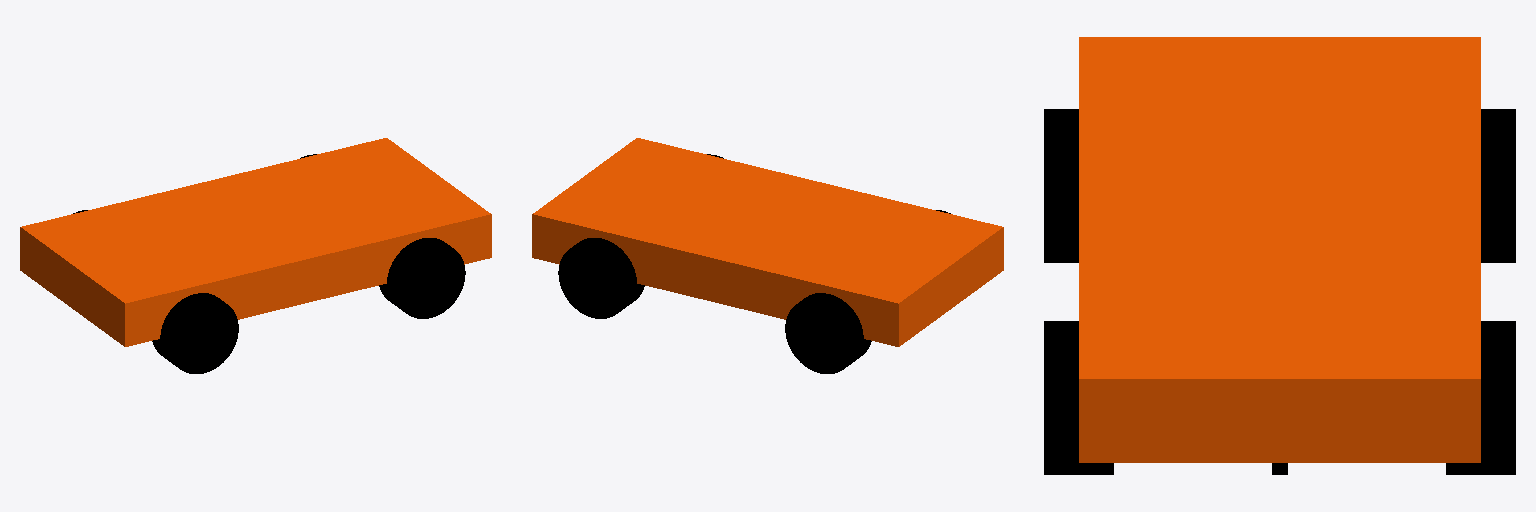
robot.urdf — carlikebot_robot:
<?xml version="1.0" ?>
<!-- =================================================================================== -->
<!-- |    This document was autogenerated by xacro from [local-path]/workspace_world/ws_1/src/ros2_control_demos/example_11/description/urdf/carlikebot.urdf.xacro | -->
<!-- |    EDITING THIS FILE BY HAND IS NOT RECOMMENDED                                 | -->
<!-- =================================================================================== -->
<!-- 4 Wheel Robot with front steering and rear drive -->
<robot name="carlikebot_robot">
  <material name="black">
    <color rgba="0.0 0.0 0.0 1.0"/>
  </material>
  <material name="blue">
    <color rgba="0.0 0.0 0.8 1.0"/>
  </material>
  <material name="green">
    <color rgba="0.0 0.8 0.0 1.0"/>
  </material>
  <material name="grey">
    <color rgba="0.2 0.2 0.2 1.0"/>
  </material>
  <material name="orange">
    <color rgba="1.0 0.4235294117647059 0.0392156862745098 1.0"/>
  </material>
  <material name="brown">
    <color rgba="0.8705882352941177 0.8117647058823529 0.7647058823529411 1.0"/>
  </material>
  <material name="red">
    <color rgba="0.8 0.0 0.0 1.0"/>
  </material>
  <material name="white">
    <color rgba="1.0 1.0 1.0 1.0"/>
  </material>
  <material name="invisible">
    <color rgba="0.0 0.0 0.0 0.0"/>
  </material>
  <!-- <xacro:property name="wheeltrack" value="" -->
  <!-- Base Link -->
  <link name="base_link"/>
  <!-- Chassis -->
  <link name="chassis_link">
    <collision>
      <origin rpy="0 0 0" xyz="0 0 0"/>
      <geometry>
        <box size="0.525 0.26 0.06"/>
      </geometry>
    </collision>
    <visual>
      <origin rpy="0 0 0" xyz="0 0 0"/>
      <geometry>
        <box size="0.525 0.26 0.06"/>
      </geometry>
      <material name="orange"/>
    </visual>
    <inertial>
      <origin rpy="0 0 0" xyz="0 0 0"/>
      <mass value="4.0"/>
      <inertia ixx="0.000270" ixy="0.0" ixz="0.0" iyy="0.000270" iyz="0.0" izz="0.000426"/>
    </inertial>
  </link>
  <joint name="chassis_joint" type="fixed">
    <parent link="base_link"/>
    <child link="chassis_link"/>
    <origin rpy="0 0 0" xyz="0 0 0.08"/>
    <axis xyz="0 0 1"/>
    <dynamics damping="0.2"/>
  </joint>
  <!-- rear wheels -->
  <!-- virtual rear wheel -->
  <link name="virtual_rear_wheel">
    <visual>
      <origin rpy="1.5707963267948966 0 1.5707963267948966" xyz="0 0 0"/>
      <geometry>
        <cylinder length="0.01" radius="0.05"/>
      </geometry>
      <material name="invisible"/>
    </visual>
  </link>
  <joint name="virtual_rear_wheel_joint" type="continuous">
    <parent link="chassis_link"/>
    <child link="virtual_rear_wheel"/>
    <origin rpy="0 0 1.5707963267948966" xyz="-0.1625 0 -0.03"/>
    <axis xyz="1 0 0"/>
    <limit effort="100.0" velocity="100.0"/>
    <dynamics damping="0.2"/>
  </joint>
  <!-- rear right wheel -->
  <link name="rear_right_wheel">
    <collision>
      <origin rpy="1.5707963267948966 0 1.5707963267948966" xyz="0 0 0"/>
      <geometry>
        <cylinder length="0.045" radius="0.05"/>
      </geometry>
    </collision>
    <visual>
      <origin rpy="1.5707963267948966 0 1.5707963267948966" xyz="0 0 0"/>
      <geometry>
        <cylinder length="0.045" radius="0.05"/>
      </geometry>
      <material name="black"/>
    </visual>
    <inertial>
      <origin rpy="1.5707963267948966 0 1.5707963267948966" xyz="0 0 0"/>
      <mass value="0.34055"/>
      <inertia ixx="0.000270" ixy="0.0" ixz="0.0" iyy="0.000270" iyz="0.0" izz="0.000426"/>
    </inertial>
  </link>
  <joint name="rear_right_wheel_joint" type="continuous">
    <parent link="chassis_link"/>
    <child link="rear_right_wheel"/>
    <origin rpy="0 0 1.5707963267948966" xyz="-0.1625 0.13 -0.03"/>
    <axis xyz="1 0 0"/>
    <limit effort="100.0" velocity="100.0"/>
    <dynamics damping="0.2"/>
    <mimic joint="virtual_rear_wheel_joint" multiplier="1.0" offset="0.0"/>
  </joint>
  <!-- rear left wheel -->
  <link name="rear_left_wheel">
    <collision>
      <origin rpy="1.5707963267948966 0 1.5707963267948966" xyz="0 0 0"/>
      <geometry>
        <cylinder length="0.045" radius="0.05"/>
      </geometry>
    </collision>
    <visual>
      <origin rpy="1.5707963267948966 0 1.5707963267948966" xyz="0 0 0"/>
      <geometry>
        <cylinder length="0.045" radius="0.05"/>
      </geometry>
      <material name="black"/>
    </visual>
    <inertial>
      <origin rpy="1.5707963267948966 0 1.5707963267948966" xyz="0 0 0"/>
      <mass value="0.34055"/>
      <inertia ixx="0.000270" ixy="0.0" ixz="0.0" iyy="0.000270" iyz="0.0" izz="0.000426"/>
    </inertial>
  </link>
  <joint name="rear_left_wheel_joint" type="continuous">
    <parent link="chassis_link"/>
    <child link="rear_left_wheel"/>
    <origin rpy="0 0 1.5707963267948966" xyz="-0.1625 -0.13 -0.03"/>
    <axis xyz="1 0 0"/>
    <limit effort="100.0" velocity="100.0"/>
    <dynamics damping="0.2"/>
    <mimic joint="virtual_rear_wheel_joint" multiplier="1.0" offset="0.0"/>
  </joint>
  <!-- front wheels -->
  <!-- virtual front wheel -->
  <link name="virtual_front_wheel">
    <visual>
      <origin rpy="1.5707963267948966 0 1.5707963267948966" xyz="0 0 0"/>
      <geometry>
        <cylinder length="0.01" radius="0.05"/>
      </geometry>
      <material name="invisible"/>
    </visual>
  </link>
  <joint name="virtual_front_wheel_joint" type="revolute">
    <parent link="chassis_link"/>
    <child link="virtual_front_wheel"/>
    <origin rpy="0 0 1.5707963267948966" xyz="0.1625 0 -0.03"/>
    <axis xyz="0 0 1"/>
    <limit effort="100.0" lower="-0.4" upper="0.4" velocity="0.0"/>
    <dynamics damping="0.2"/>
  </joint>
  <!-- front right wheel -->
  <link name="front_right_wheel">
    <collision>
      <origin rpy="1.5707963267948966 0 1.5707963267948966" xyz="0 0 0"/>
      <geometry>
        <cylinder length="0.045" radius="0.05"/>
      </geometry>
    </collision>
    <visual>
      <origin rpy="1.5707963267948966 0 1.5707963267948966" xyz="0 0 0"/>
      <geometry>
        <cylinder length="0.045" radius="0.05"/>
      </geometry>
      <material name="black"/>
    </visual>
    <inertial>
      <origin rpy="1.5707963267948966 0 1.5707963267948966" xyz="0 0 0"/>
      <mass value="0.34055"/>
      <inertia ixx="0.000270" ixy="0.0" ixz="0.0" iyy="0.000270" iyz="0.0" izz="0.000426"/>
    </inertial>
  </link>
  <joint name="front_right_wheel_joint" type="revolute">
    <parent link="chassis_link"/>
    <child link="front_right_wheel"/>
    <origin rpy="0 0 1.5707963267948966" xyz="0.1625 0.13 -0.03"/>
    <axis xyz="0 0 1"/>
    <limit effort="100.0" lower="-0.4" upper="0.4" velocity="0.0"/>
    <dynamics damping="0.2"/>
    <mimic joint="virtual_front_wheel_joint" multiplier="1.0" offset="0.0"/>
  </joint>
  <!-- front left steering -->
  <link name="front_left_wheel">
    <collision>
      <origin rpy="1.5707963267948966 0 1.5707963267948966" xyz="0 0 0"/>
      <geometry>
        <cylinder length="0.045" radius="0.05"/>
      </geometry>
    </collision>
    <visual>
      <origin rpy="1.5707963267948966 0 1.5707963267948966" xyz="0 0 0"/>
      <geometry>
        <cylinder length="0.045" radius="0.05"/>
      </geometry>
      <material name="black"/>
    </visual>
    <inertial>
      <origin rpy="1.5707963267948966 0 1.5707963267948966" xyz="0 0 0"/>
      <mass value="0.34055"/>
      <inertia ixx="0.000270" ixy="0.0" ixz="0.0" iyy="0.000270" iyz="0.0" izz="0.000426"/>
    </inertial>
  </link>
  <joint name="front_left_wheel_joint" type="revolute">
    <parent link="chassis_link"/>
    <child link="front_left_wheel"/>
    <origin rpy="0 0 1.5707963267948966" xyz="0.1625 -0.13 -0.03"/>
    <axis xyz="0 0 1"/>
    <limit effort="100.0" lower="-0.4" upper="0.4" velocity="0.0"/>
    <dynamics damping="0.2"/>
    <mimic joint="virtual_front_wheel_joint" multiplier="1.0" offset="0.0"/>
  </joint>
  <ros2_control name="CarlikeBot" type="system">
    <hardware>
      <plugin>my_robot_hardware_interface/MyRobotHardware</plugin>
      <param name="example_param_hw_start_duration_sec">0</param>
      <param name="example_param_hw_stop_duration_sec">3.0</param>
    </hardware>
    <joint name="virtual_front_wheel_joint">
      <command_interface name="position"/>
      <state_interface name="position"/>
    </joint>
    <joint name="virtual_rear_wheel_joint">
      <command_interface name="velocity"/>
      <state_interface name="velocity"/>
      <state_interface name="position"/>
    </joint>
  </ros2_control>
</robot>

--- Render facts (derived) ---
Views: 3 orthographic renders of the robot side by side, from view 1: azimuth 30°, elevation 25°; view 2: azimuth 150°, elevation 25°; view 3: azimuth 270°, elevation 25°.
Model carlikebot_robot with 8 links and 7 joints (3 revolute, 3 continuous, 1 fixed), rooted at base_link, posed every joint at zero.
Visible links, largest first — view 1: chassis_link, rear_left_wheel, front_left_wheel; view 2: chassis_link, rear_right_wheel, front_right_wheel; view 3: chassis_link, front_right_wheel, front_left_wheel, rear_right_wheel, rear_left_wheel.
Link boxes in pixels (x1,y1,x2,y2): chassis_link: [20, 138, 491, 346]; rear_left_wheel: [152, 293, 238, 373]; front_left_wheel: [379, 238, 465, 318]; chassis_link: [532, 138, 1003, 346]; rear_right_wheel: [785, 293, 871, 373]; front_right_wheel: [558, 238, 644, 318]; chassis_link: [1079, 37, 1480, 462]; front_right_wheel: [1446, 321, 1515, 474]; front_left_wheel: [1044, 321, 1113, 474]; rear_right_wheel: [1481, 109, 1515, 262]; rear_left_wheel: [1044, 109, 1078, 262].
Size in the robot's own frame: 0.525 by 0.305 by 0.11 metres.
Geometry: primitives only (box / cylinder / sphere), no mesh files.